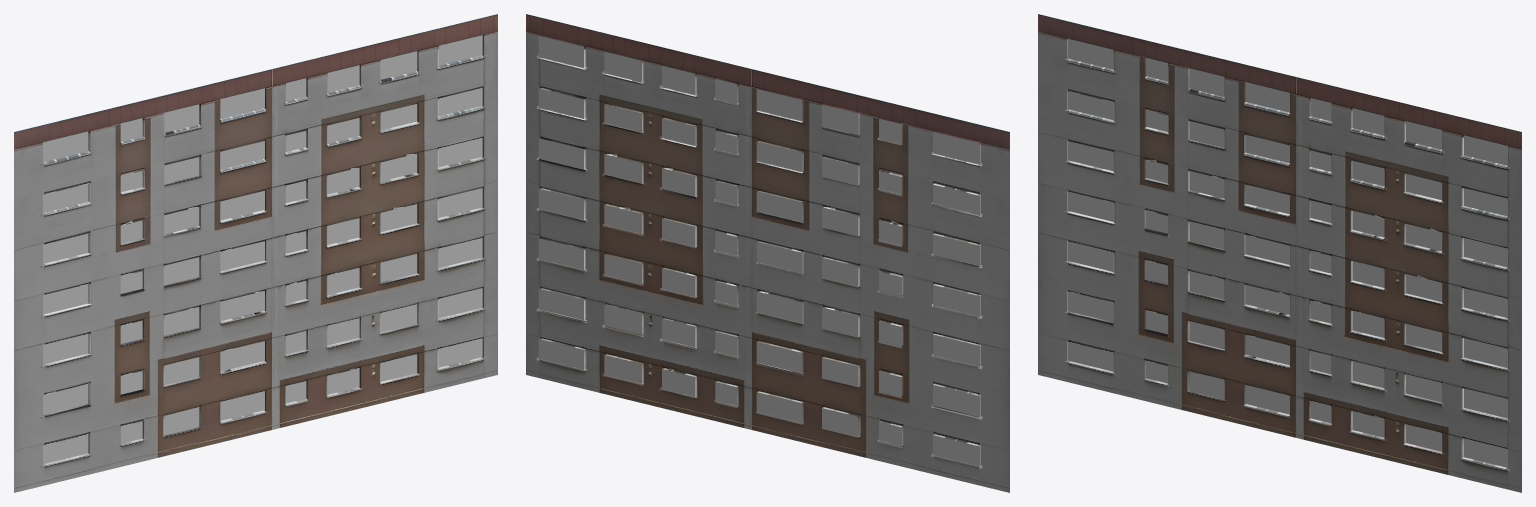
Rendered from apartments9.obj.
3 renders of one model, left to right at view 1: azimuth 30°, elevation 25°; view 2: azimuth 150°, elevation 25°; view 3: azimuth 330°, elevation 25°, orthographic.
Parts seen in each view (by area): view 1: apartments9; view 2: apartments9; view 3: apartments9.
Part boxes in pixels (x1,y1,x2,y2): apartments9: (14, 14, 497, 492); apartments9: (526, 14, 1009, 492); apartments9: (1038, 14, 1521, 492).
Size of the model in its own units: 4.98 by 3.55 by 0.0337.
